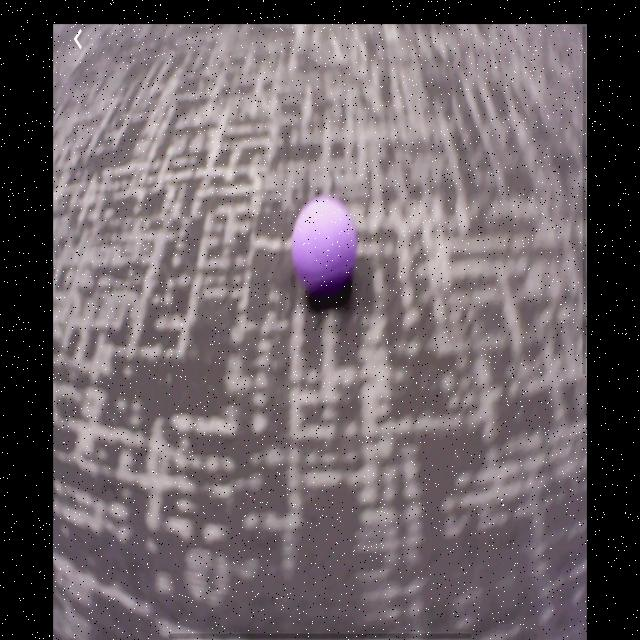ball: (294, 200, 358, 296)
